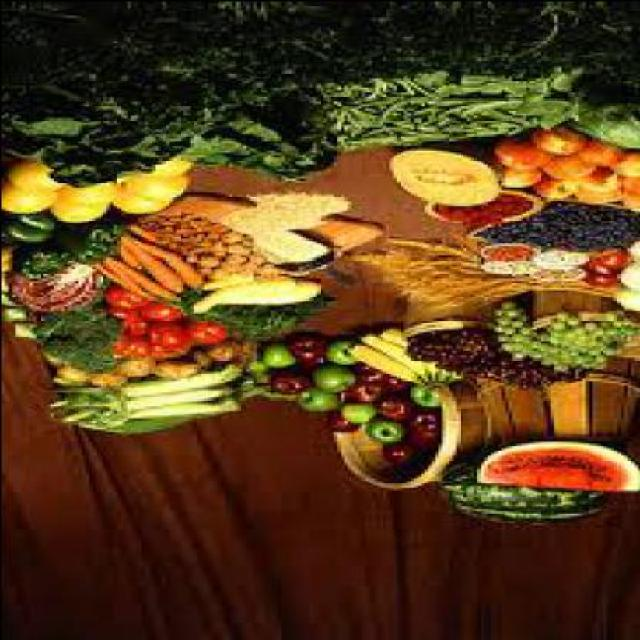BIODEGRADABLE: (2, 0, 302, 94), (311, 74, 563, 149), (2, 83, 182, 186), (175, 90, 333, 179), (297, 2, 445, 93), (434, 452, 594, 526), (340, 242, 500, 315), (434, 2, 574, 84), (402, 332, 581, 394), (469, 440, 636, 494), (384, 144, 504, 207), (168, 293, 322, 342), (147, 212, 251, 282), (45, 368, 242, 402), (11, 312, 118, 368), (3, 261, 105, 319), (42, 386, 230, 417), (525, 321, 629, 377), (49, 395, 234, 423), (578, 2, 636, 86), (122, 230, 203, 288), (570, 98, 636, 152), (188, 279, 290, 312), (556, 212, 636, 254), (52, 217, 123, 263), (213, 205, 315, 237), (45, 418, 188, 440), (217, 277, 315, 309), (490, 204, 570, 242), (115, 244, 178, 291), (95, 272, 182, 305), (343, 345, 409, 386), (378, 330, 430, 382), (357, 335, 420, 377), (104, 261, 168, 302), (244, 233, 322, 265), (486, 302, 528, 361), (490, 277, 605, 298), (434, 198, 521, 225), (245, 195, 343, 217), (111, 177, 186, 203), (2, 206, 52, 245), (486, 142, 549, 172), (11, 244, 63, 278), (133, 156, 196, 184), (46, 198, 105, 225), (525, 129, 580, 156), (56, 179, 109, 207), (3, 160, 46, 194), (280, 333, 318, 370), (137, 329, 186, 356), (108, 193, 164, 216), (108, 307, 147, 338), (576, 165, 619, 193), (2, 187, 43, 216), (182, 319, 224, 347), (307, 368, 350, 395), (266, 373, 312, 398), (140, 300, 189, 323), (539, 161, 598, 179), (332, 401, 378, 424), (528, 177, 574, 200), (364, 418, 398, 449), (570, 144, 619, 165), (150, 361, 196, 382), (256, 347, 290, 375), (109, 338, 143, 365), (374, 375, 417, 396), (609, 149, 636, 182), (497, 170, 535, 193), (573, 188, 619, 207), (318, 340, 349, 368), (531, 256, 584, 272), (374, 398, 412, 420), (294, 393, 332, 415), (46, 368, 91, 386), (618, 172, 637, 212), (612, 266, 637, 296), (350, 366, 381, 388), (609, 289, 636, 314), (406, 412, 434, 436), (482, 246, 521, 263), (203, 344, 234, 365), (591, 254, 634, 269), (399, 431, 433, 449), (326, 417, 360, 435), (223, 386, 266, 400), (409, 386, 434, 409), (84, 372, 125, 386), (382, 447, 409, 468), (542, 312, 576, 328), (478, 265, 522, 277), (115, 360, 143, 378), (347, 387, 378, 402), (578, 265, 612, 277), (578, 280, 608, 288), (622, 247, 636, 262)
